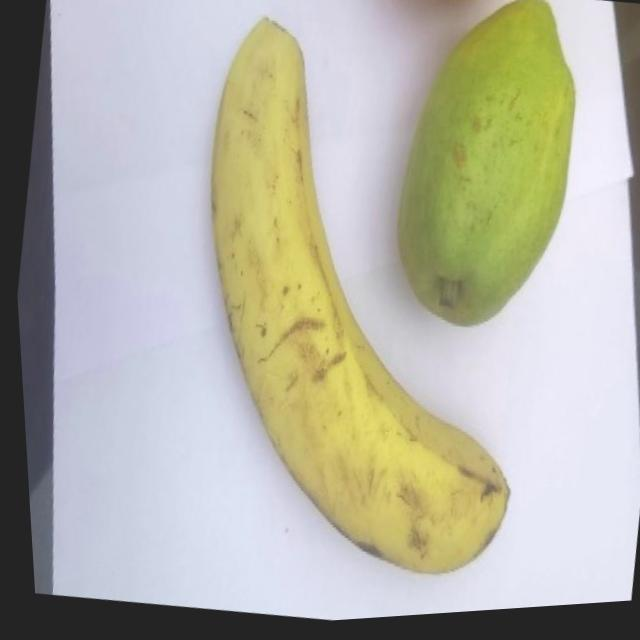Banana: (141, 0, 580, 607)
